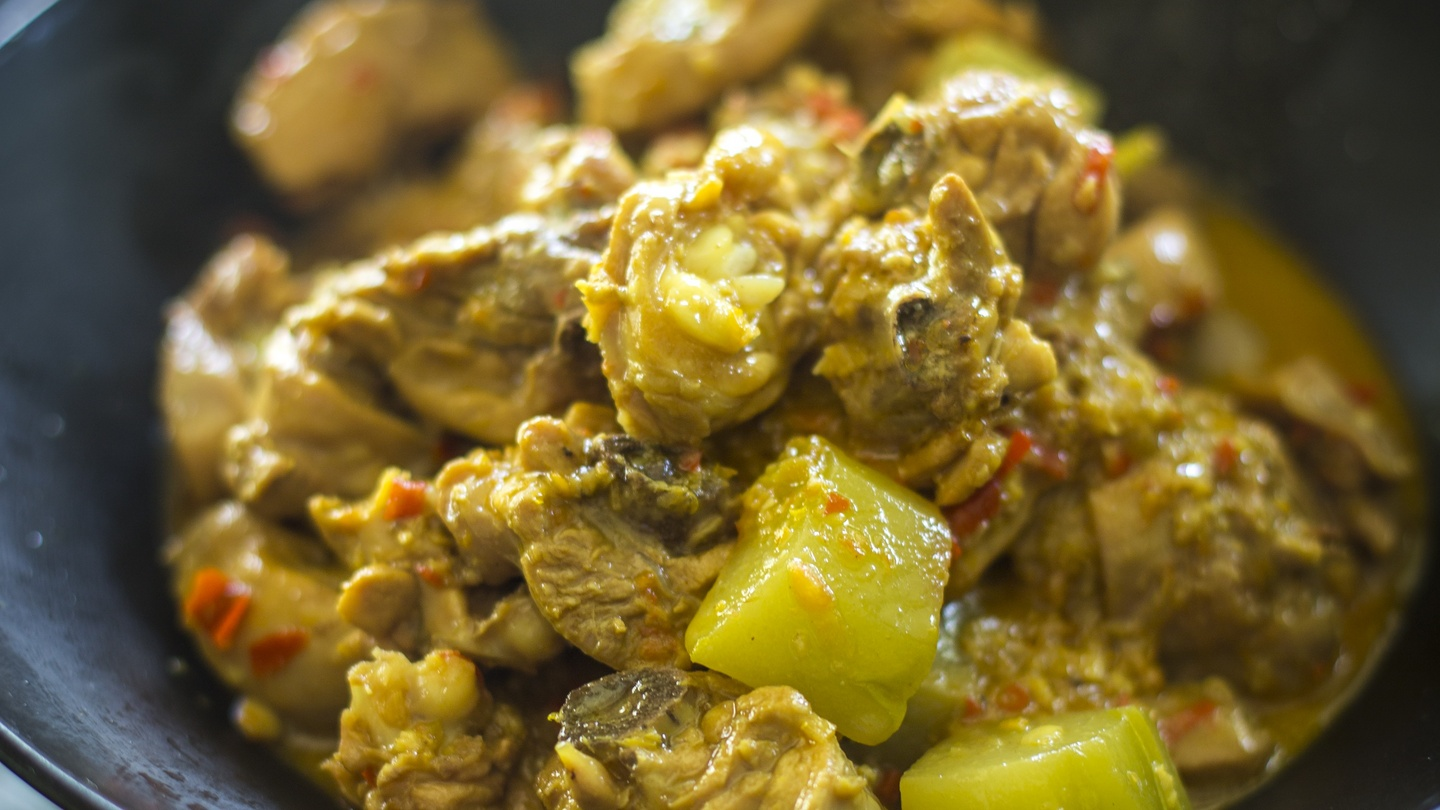chicken_curry: (207, 131, 1301, 774)
